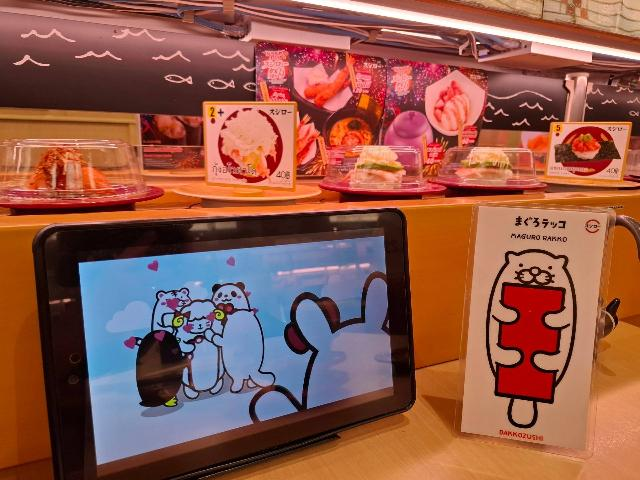janred: (0, 134, 146, 224), (303, 171, 466, 215), (462, 169, 544, 204)
